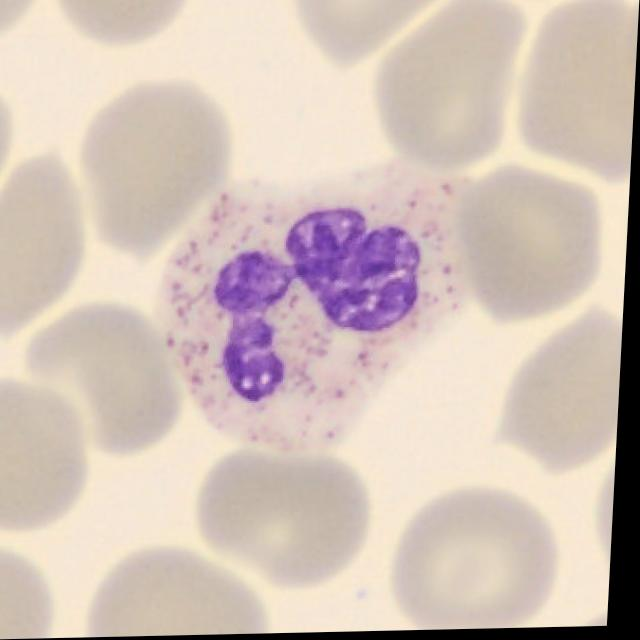Neutrofilo segmentado: (158, 163, 473, 457)
